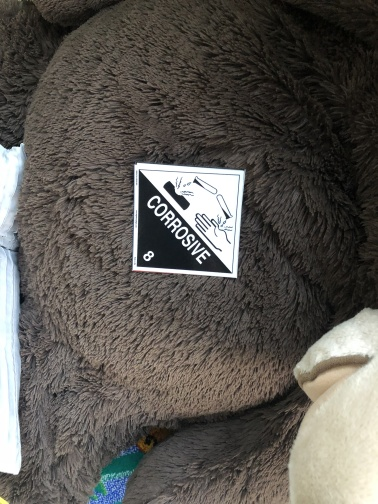Corrosive: (131, 162, 241, 277)
